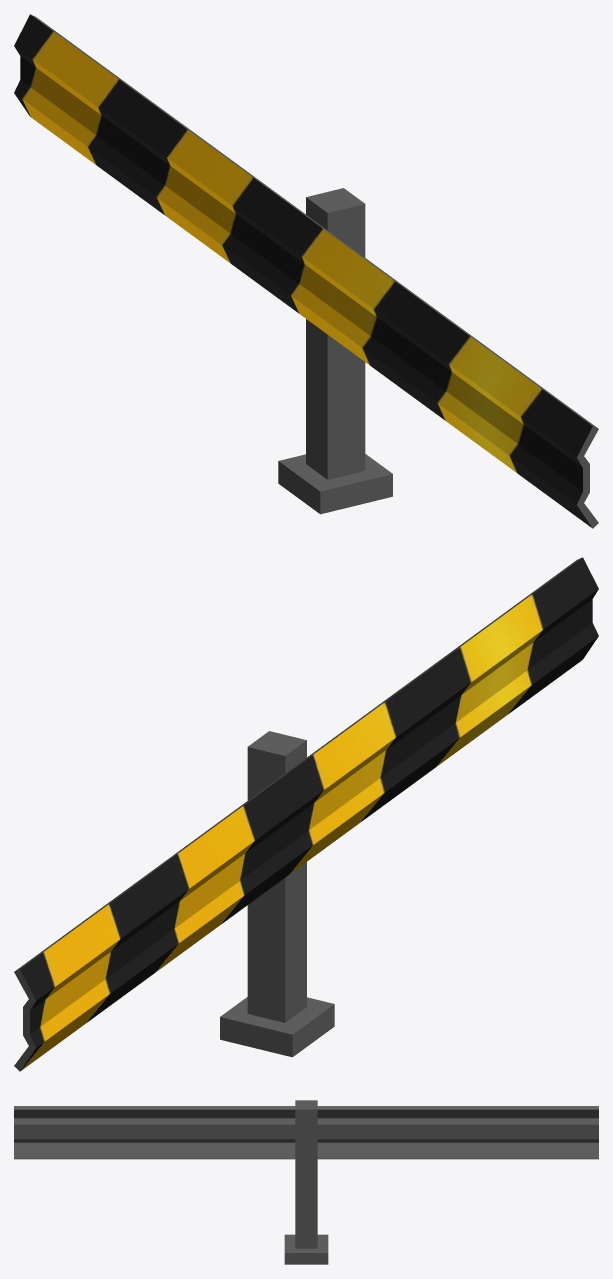
Rendered from barrierModel.obj.
The picture shows the model from 3 angles, top to bottom: view 1: azimuth 30°, elevation 25°; view 2: azimuth 150°, elevation 25°; view 3: azimuth 270°, elevation 25°; orthographic projection. The views are drawn at different scales.
Visible parts, largest first — view 1: Plane.005, Plane.004, Plane.001; view 2: Plane.005, Plane.004, Plane.001; view 3: Plane.001, Plane.004.
Boxes of the visible parts, x1,y1,x2,y2 form: Plane.005: (14, 14, 592, 528); Plane.004: (278, 188, 392, 514); Plane.001: (31, 15, 598, 528); Plane.005: (20, 557, 598, 1071); Plane.004: (220, 731, 334, 1057); Plane.001: (14, 558, 581, 1071); Plane.001: (14, 1106, 598, 1159); Plane.004: (284, 1100, 328, 1264).
Size of the model in its own units: 0.3146 by 1.14 by 4.
2 materials, 2 textured.
